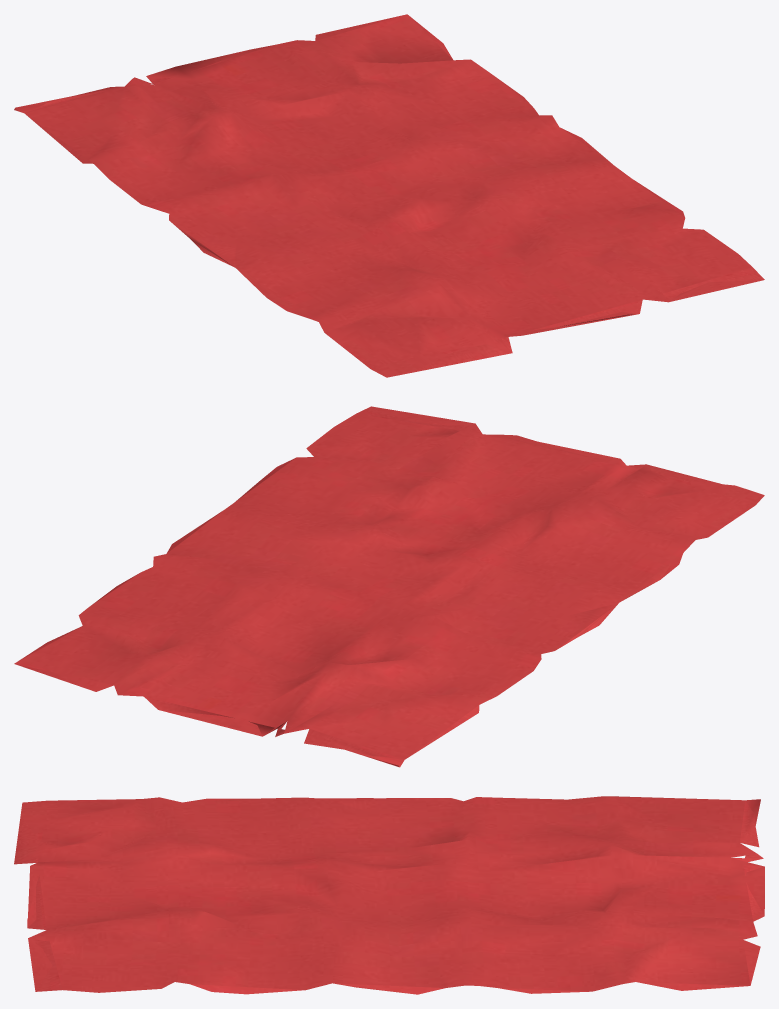
File: Carpet0025.obj
3 views of the same model, one above another, from view 1: azimuth 30°, elevation 25°; view 2: azimuth 150°, elevation 25°; view 3: azimuth 270°, elevation 25° (orthographic).
Bounding box in the file's own units: 2.39 × 0.107 × 3.86.
Materials: 1 (1 with a texture image).
